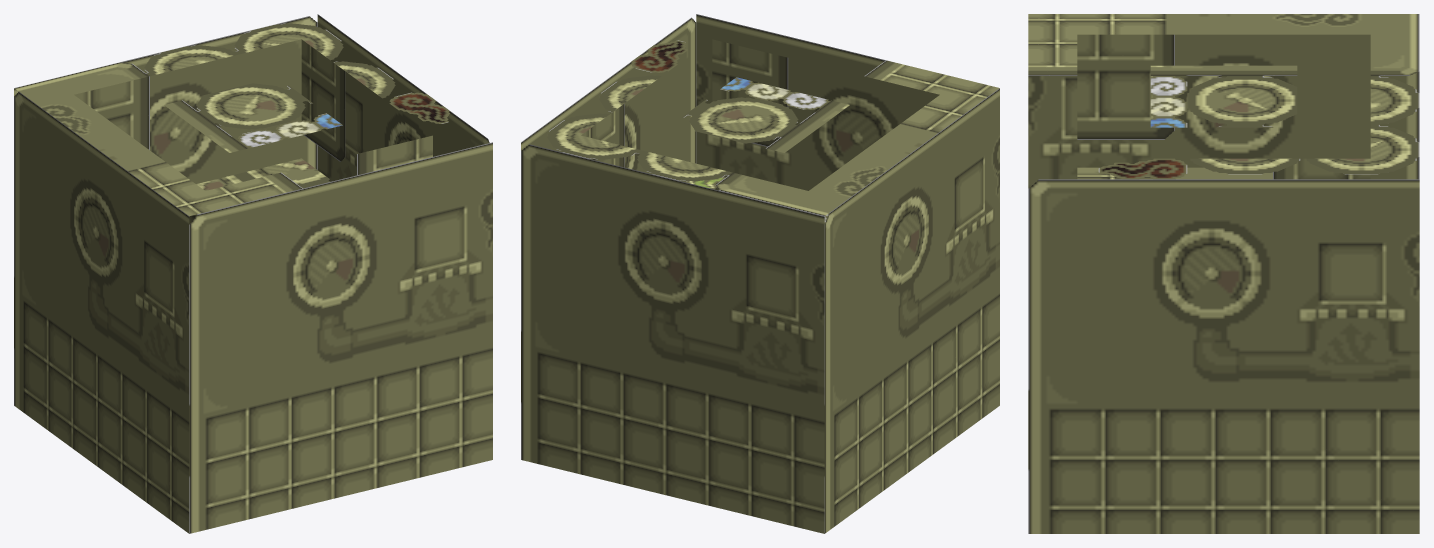
The model's file is sauna_vent.obj.
The picture shows the model from 3 angles, left to right: view 1: azimuth 30°, elevation 25°; view 2: azimuth 150°, elevation 25°; view 3: azimuth 270°, elevation 25°; orthographic projection. The views are drawn at different scales.
Parts seen in each view (by area): view 1: ventBody, ventMouth; view 2: ventBody, ventMouth; view 3: ventBody, ventMouth.
Part boxes in pixels (x1=…): ventBody: x1=14, y1=14, x2=492, y2=533; ventMouth: x1=164, y1=83, x2=342, y2=152; ventBody: x1=521, y1=14, x2=999, y2=533; ventMouth: x1=681, y1=77, x2=849, y2=152; ventBody: x1=1028, y1=14, x2=1419, y2=533; ventMouth: x1=1150, y1=65, x2=1297, y2=127.
Size of the model in its own units: 1 by 1 by 1.
